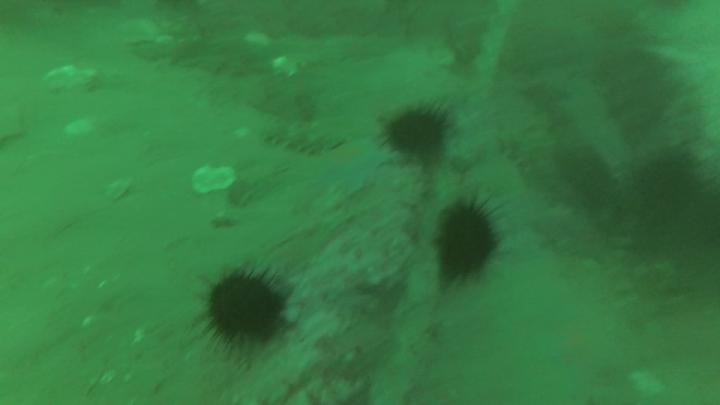echinus: (208, 278, 280, 339), (440, 209, 496, 282), (387, 112, 447, 160)
holothurian: (264, 120, 346, 157)
